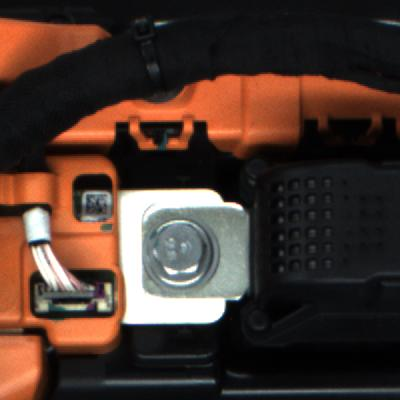nut_b: (130, 215, 225, 291)
